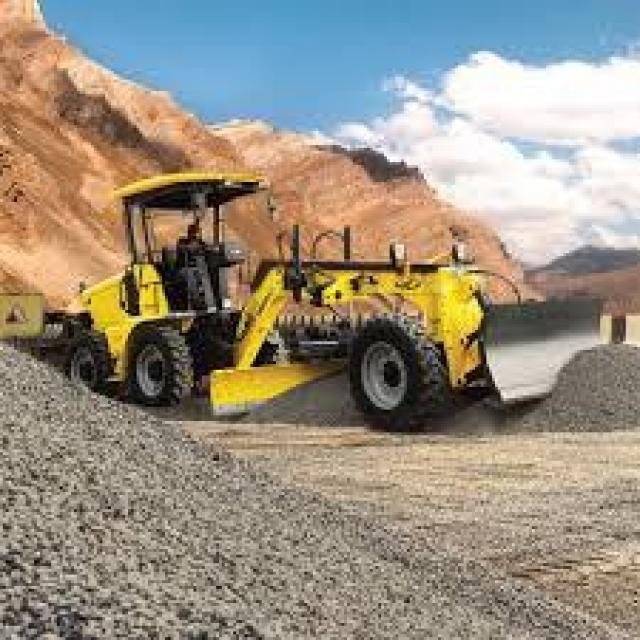Grader: (34, 151, 620, 458)
